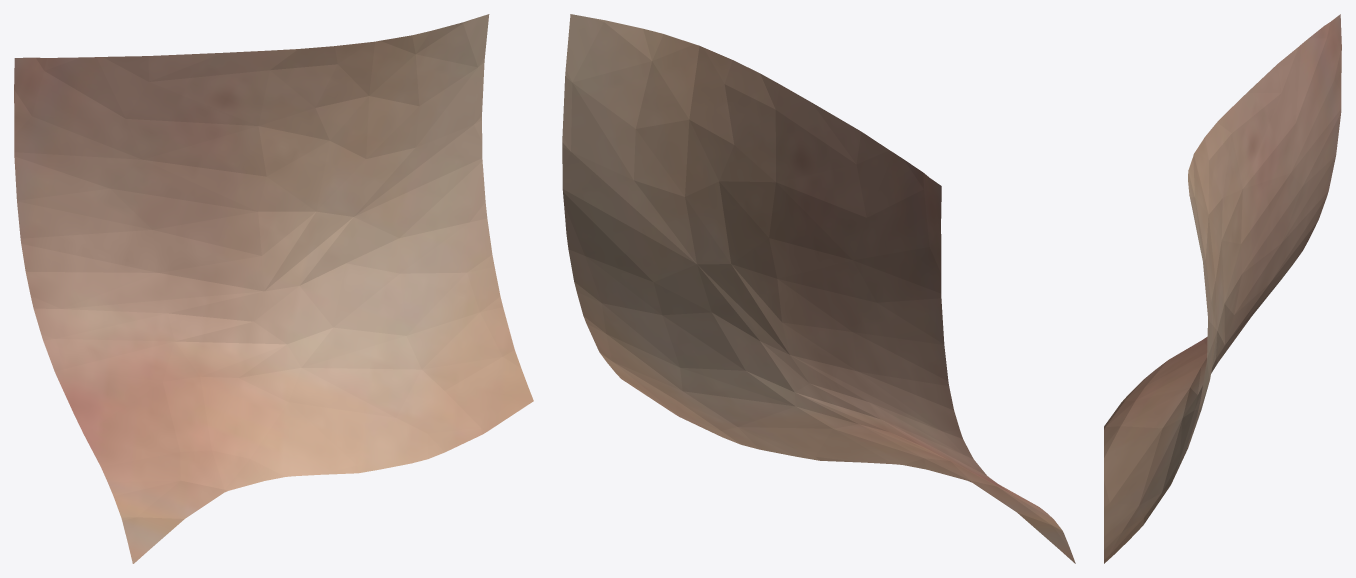
The picture shows the model from 3 angles, left to right: view 1: azimuth 30°, elevation 25°; view 2: azimuth 150°, elevation 25°; view 3: azimuth 270°, elevation 25°; orthographic projection. The views are drawn at different scales.
Visible parts, largest first — view 1: 091_W_Aya_100K_01; view 2: 091_W_Aya_100K_01; view 3: 091_W_Aya_100K_01.
Boxes of the visible parts, x1,y1,x2,y2 form: 091_W_Aya_100K_01: [14, 14, 533, 563]; 091_W_Aya_100K_01: [562, 14, 1075, 563]; 091_W_Aya_100K_01: [1104, 14, 1341, 563].
Bounding box in the file's own units: 42.87 × 42.87 × 22.03.
Materials: 1 (1 with a texture image).
